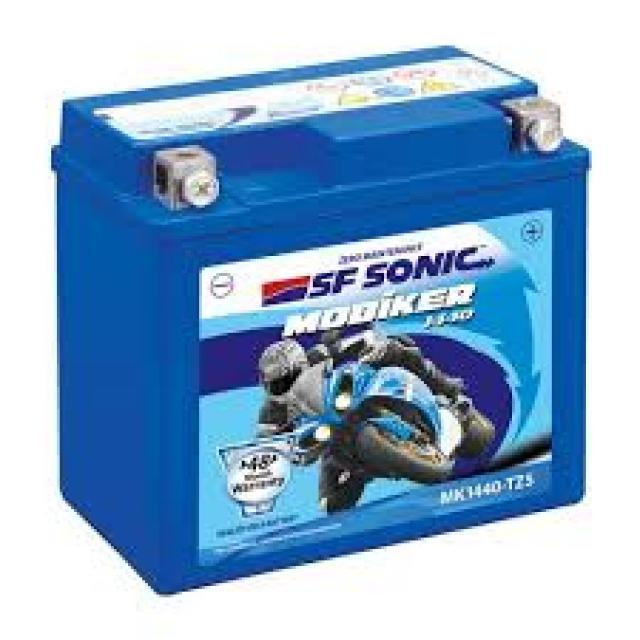non-organic waste: (42, 34, 590, 602)
